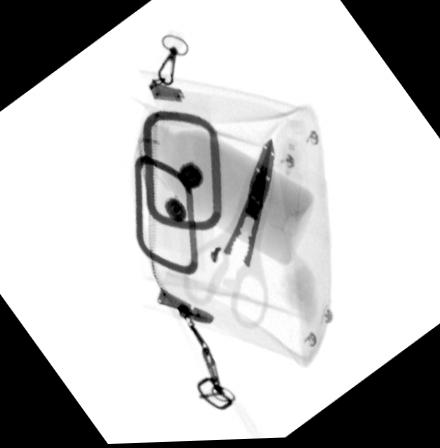Scissors: (181, 140, 275, 330)
